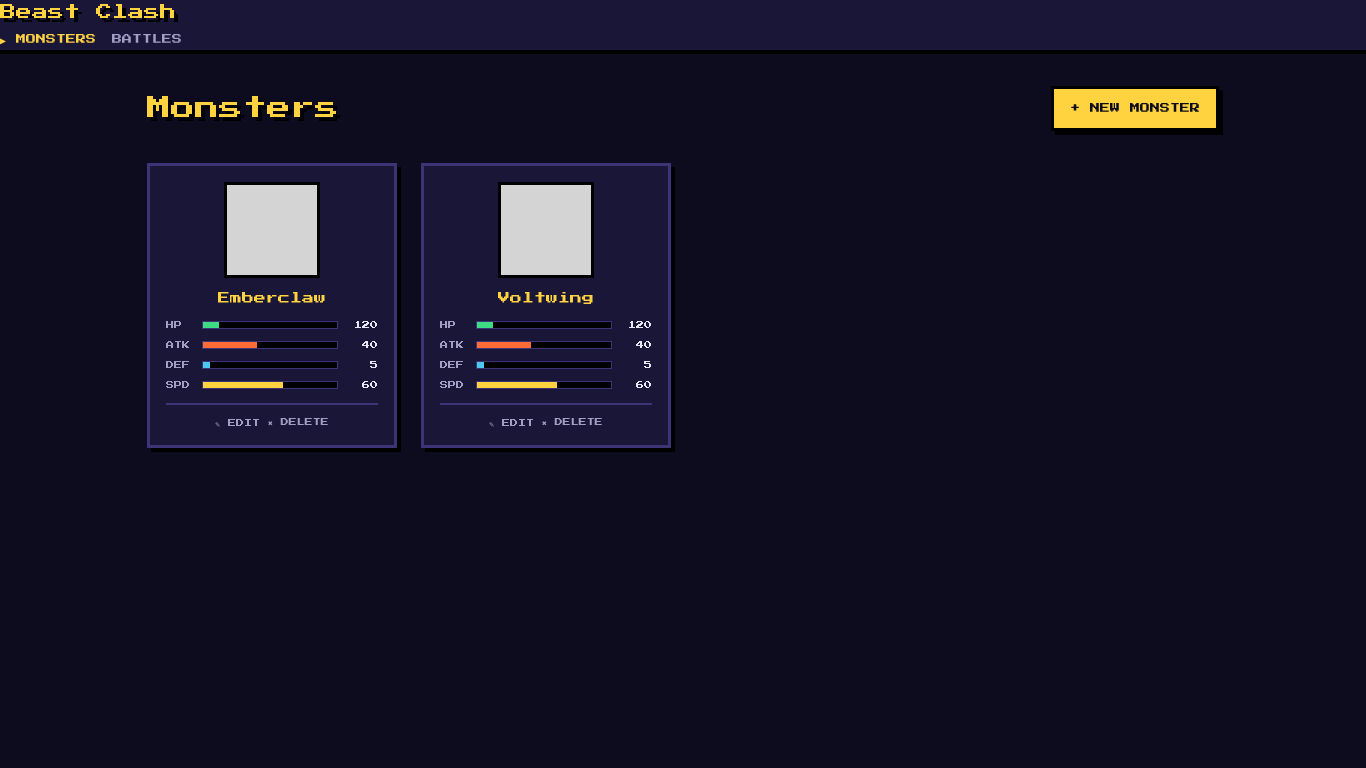
Test: MonsterList: delete › asks for confirmation naming the monster
Step 1. Click the button "✖ Delete" below "Voltwing" → (572, 423), box [542,417,603,429]
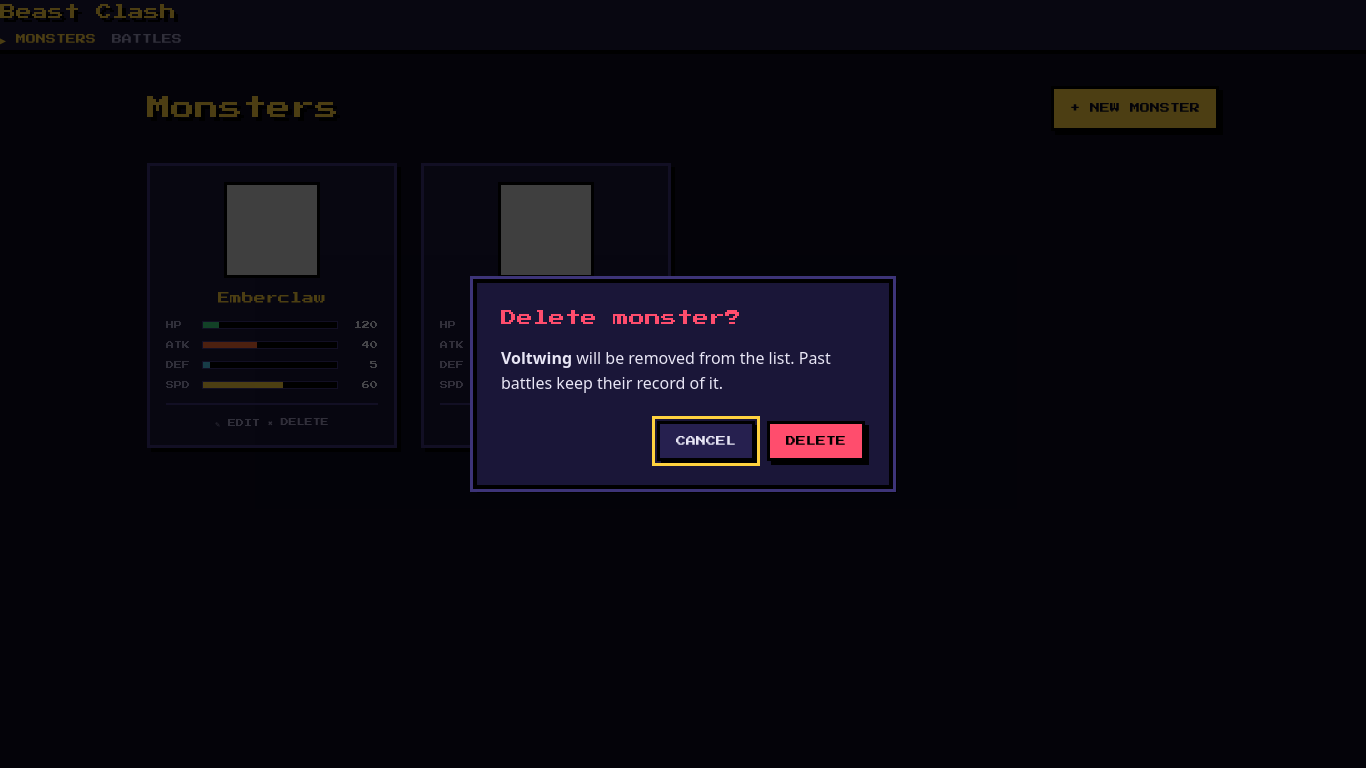
expect the dialog "Delete monster?" shows "Voltwing will be removed from the list": met, box [473,279,893,489]
